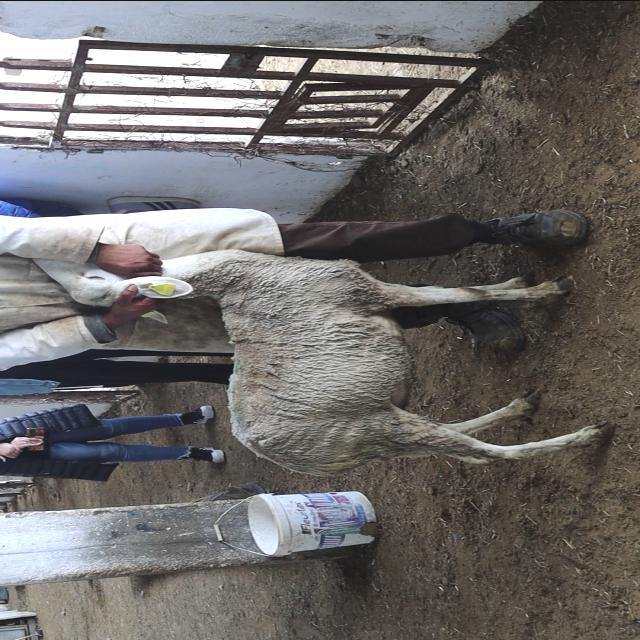Score_1: (36, 249, 603, 475)
